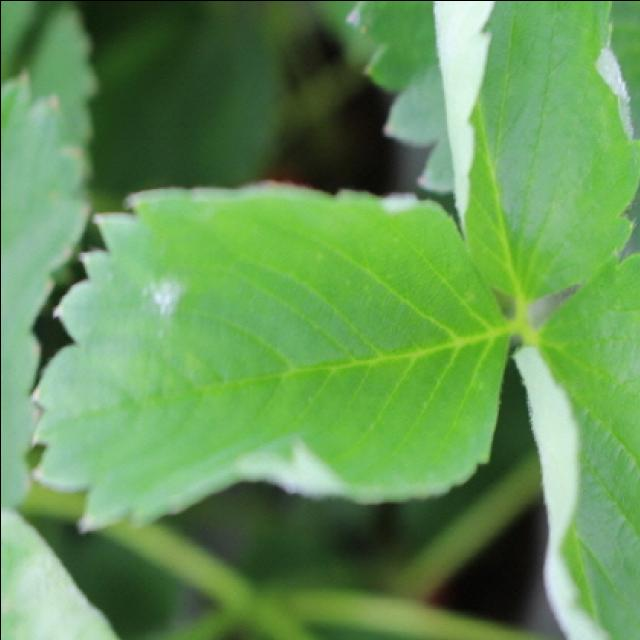Powdery Mildew Leaf: (27, 177, 515, 532), (429, 2, 638, 308), (508, 249, 638, 640)
